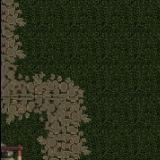Hide: (0, 115, 43, 160)
